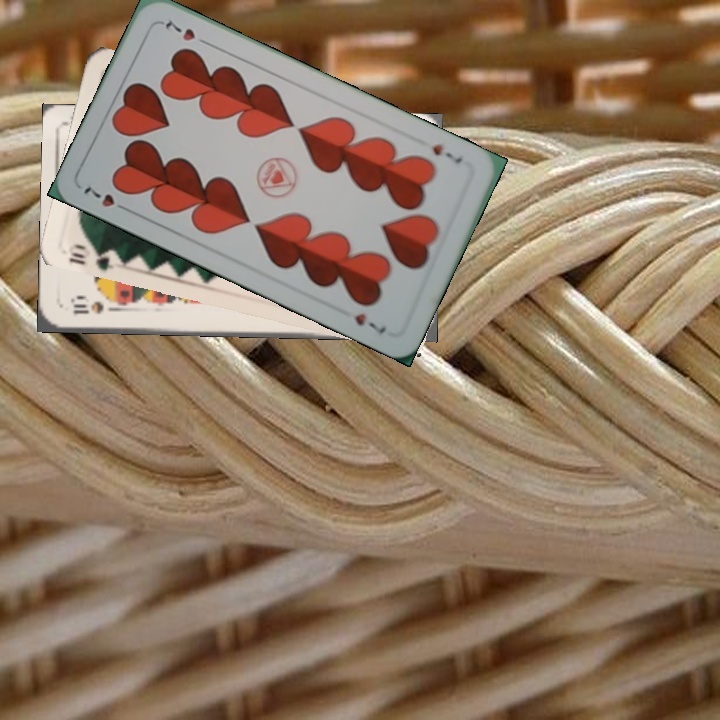G10: (64, 240, 122, 273)
H7: (80, 181, 133, 216), (428, 139, 465, 166)
S10: (66, 297, 121, 317)
